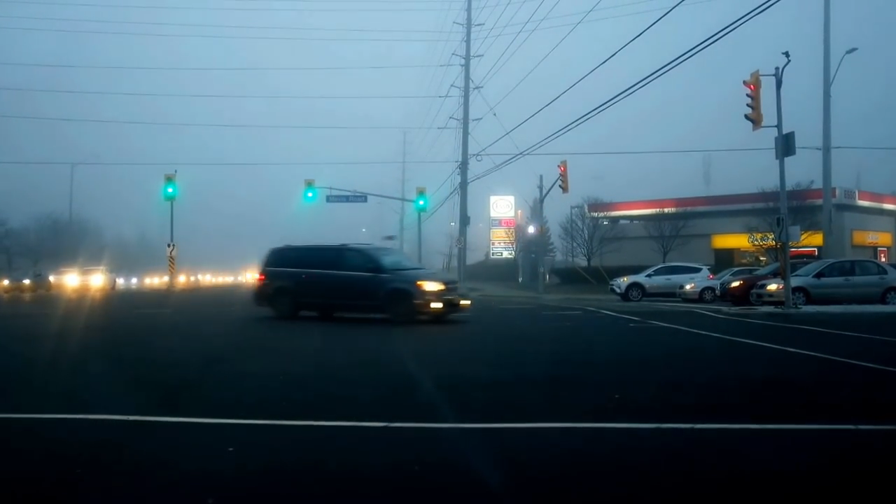car: (250, 240, 462, 324), (749, 258, 896, 310), (718, 260, 846, 306), (609, 261, 724, 303), (674, 266, 798, 304), (1, 266, 54, 294), (73, 266, 117, 293)
